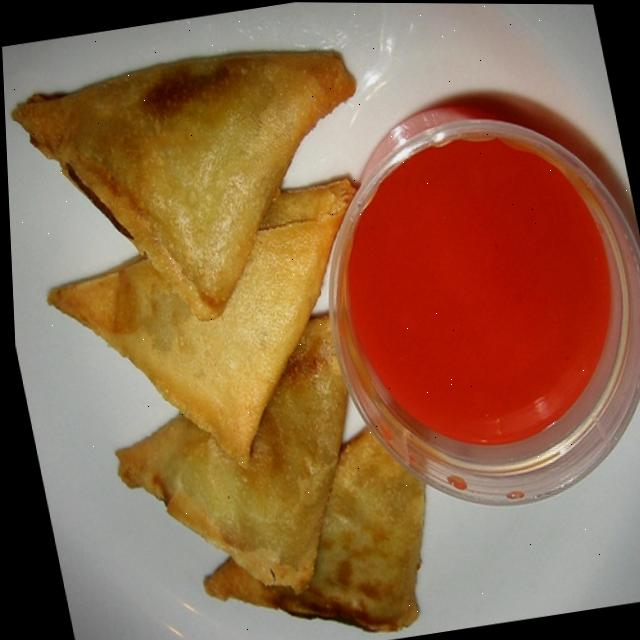炸货点心: (11, 3, 640, 640)
